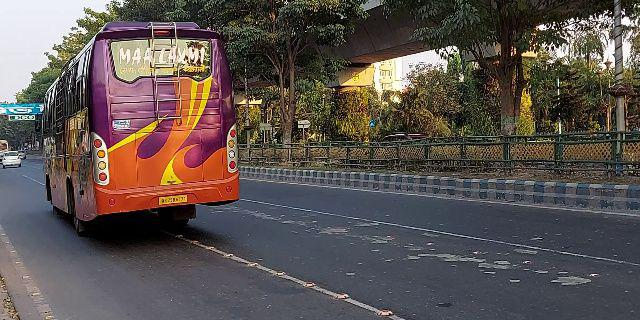Bus: (38, 18, 243, 247)
Car: (1, 149, 23, 172)
